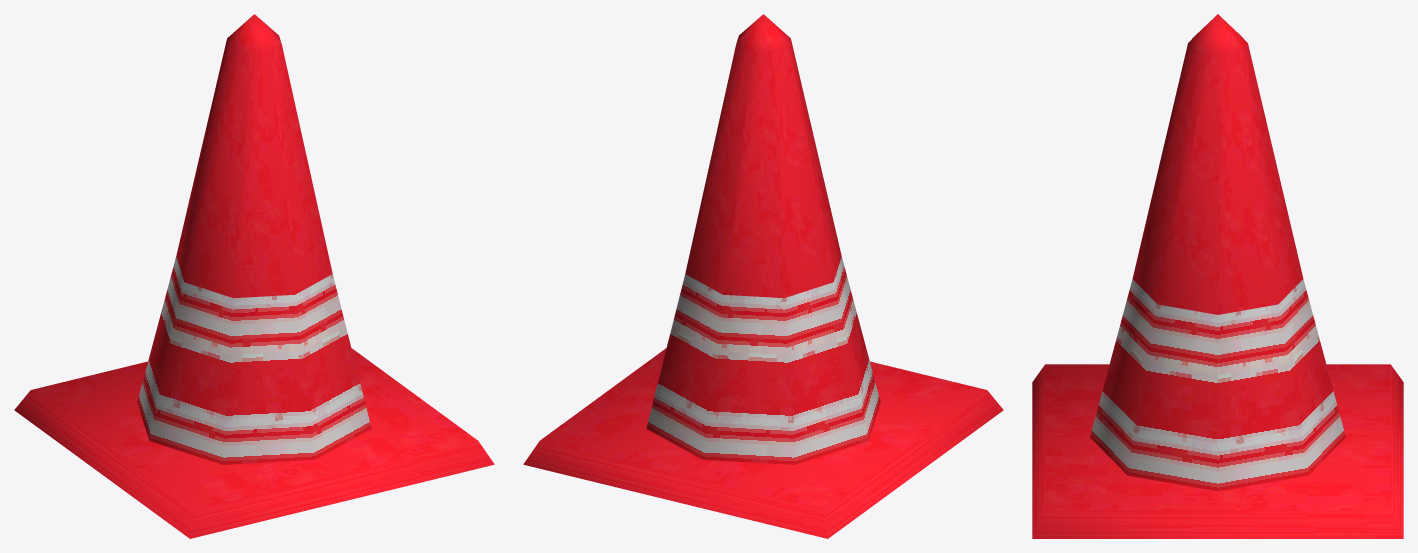
Rendered from ConeA.obj.
The picture shows the model from 3 angles, left to right: view 1: azimuth 30°, elevation 25°; view 2: azimuth 150°, elevation 25°; view 3: azimuth 270°, elevation 25°; orthographic projection. The views are drawn at different scales.
Bounding box in the file's own units: 8.12 × 10.78 × 8.12.
2 materials, 2 textured.
